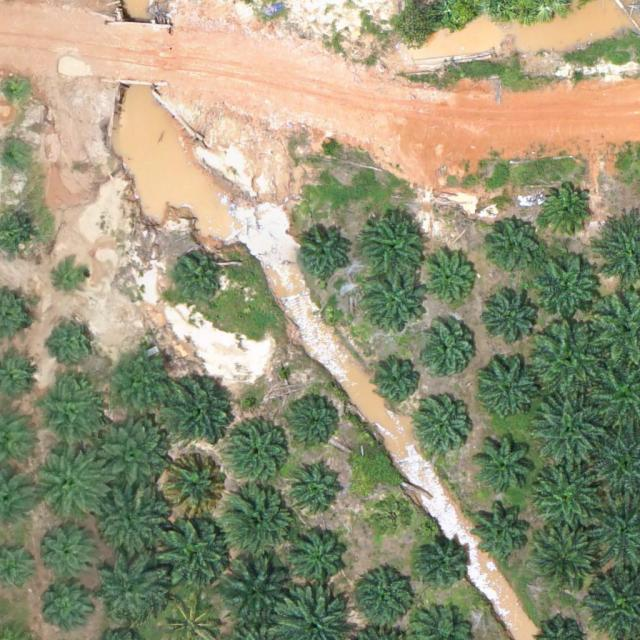Dead: (371, 493, 418, 540)
Healthy: (33, 442, 111, 521), (532, 320, 610, 399), (159, 370, 237, 449), (156, 516, 234, 595), (95, 483, 173, 562), (93, 549, 171, 628), (219, 480, 297, 559), (90, 420, 168, 498), (219, 553, 297, 631), (37, 379, 107, 450), (531, 522, 601, 593), (533, 455, 603, 526), (533, 392, 603, 463), (106, 347, 176, 418), (224, 420, 294, 491), (472, 499, 535, 562), (362, 213, 425, 276), (41, 520, 103, 583), (538, 256, 600, 319), (476, 357, 538, 420), (473, 432, 535, 495), (365, 271, 427, 334), (287, 523, 349, 586), (351, 569, 413, 632), (40, 579, 95, 634), (539, 184, 594, 239), (489, 219, 544, 274), (485, 294, 540, 349), (423, 254, 478, 309), (421, 324, 476, 379), (416, 401, 471, 456), (297, 229, 352, 284), (288, 394, 343, 449), (415, 533, 469, 588), (292, 460, 346, 515)
Small: (370, 354, 425, 409), (171, 254, 225, 309), (51, 316, 98, 364), (54, 259, 93, 299)
Yellow: (160, 450, 231, 521)
